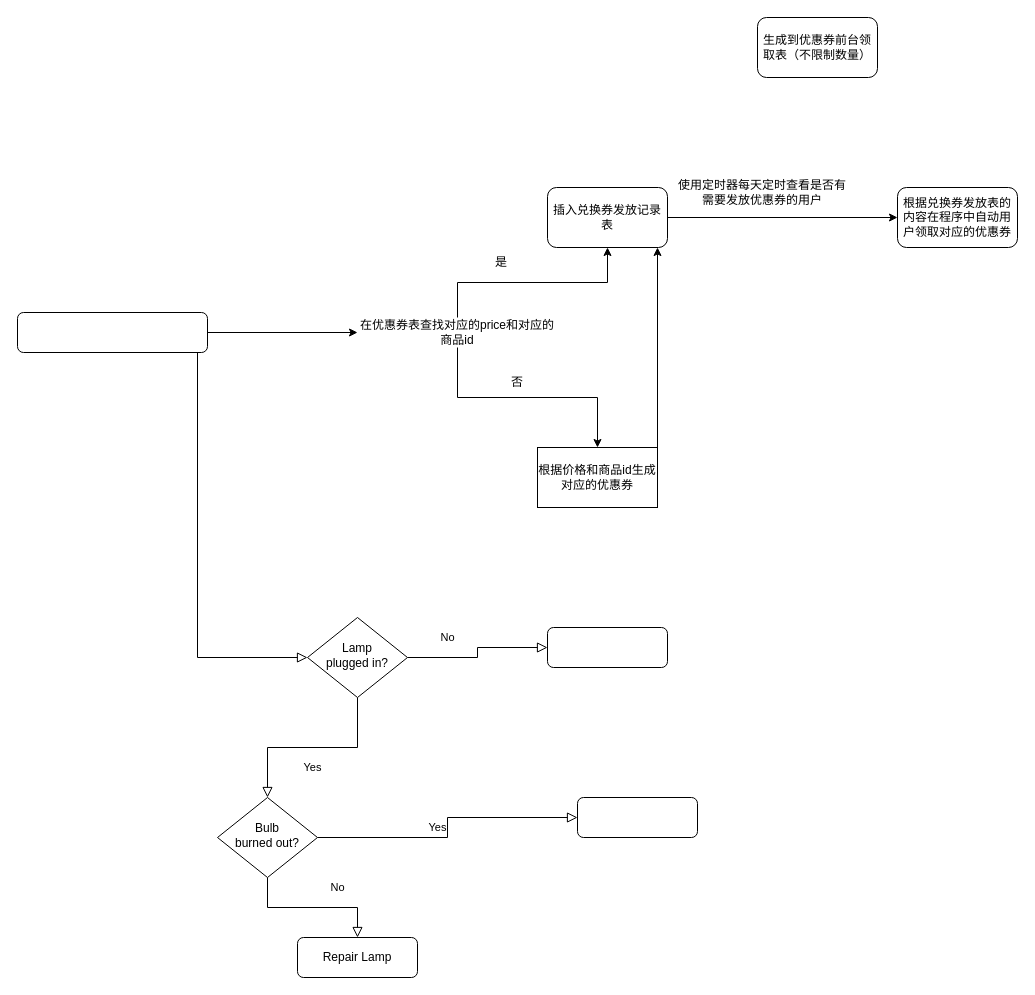
This 1035x995 diagram has some shape labels left out. The centre of each missing label's shape, as x and y in pixels:
Plug in lamp: (607,647)
Replace Bulb: (637,817)
用户下单后确认收货: (112,332)
